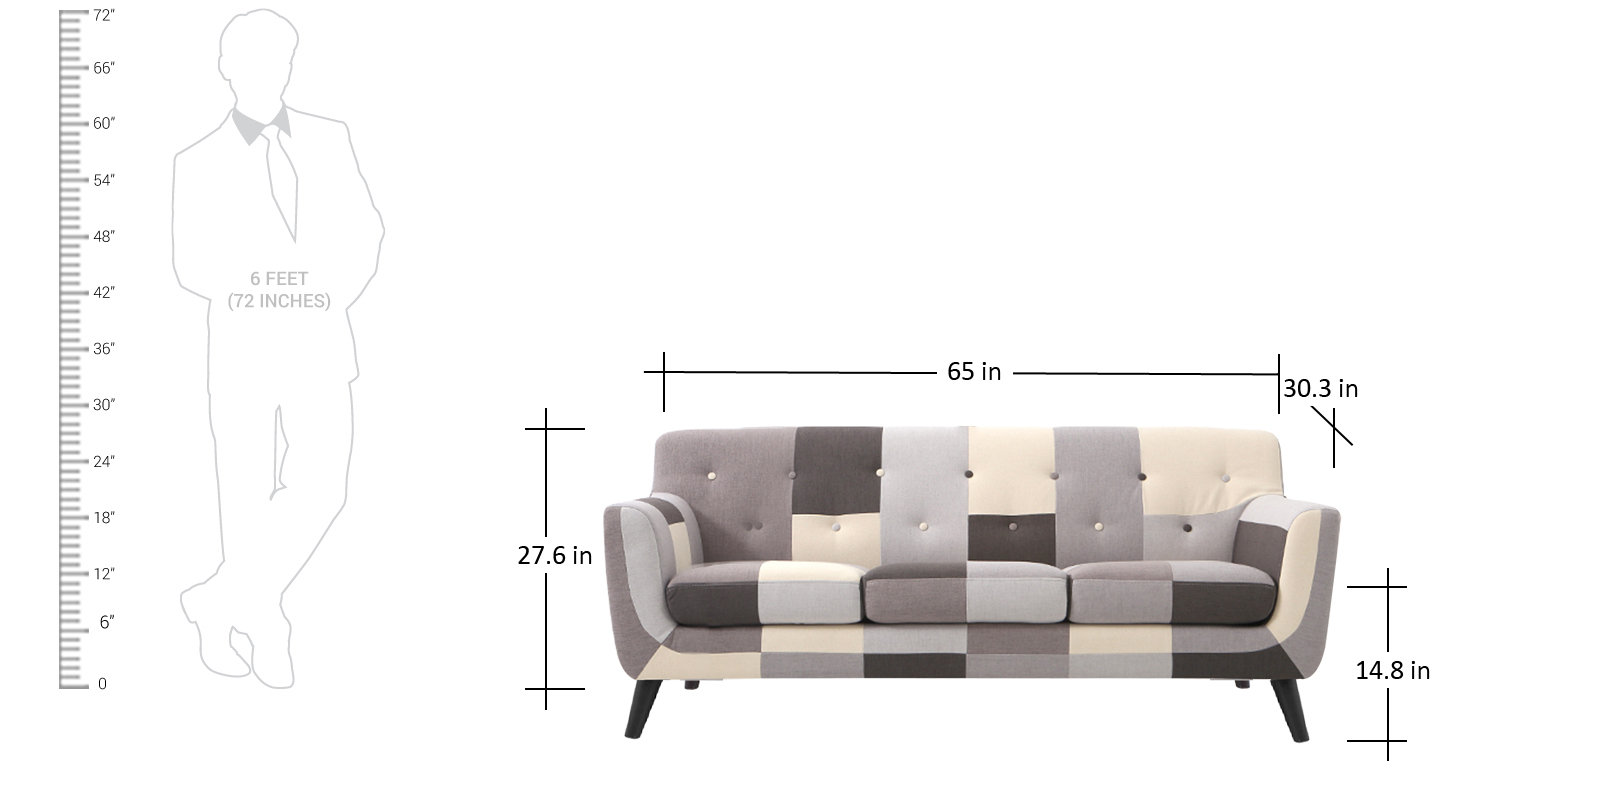Frida Three Seater Sofa in Grey Multi Colour by CasaCraft: (595, 416, 1344, 761)
